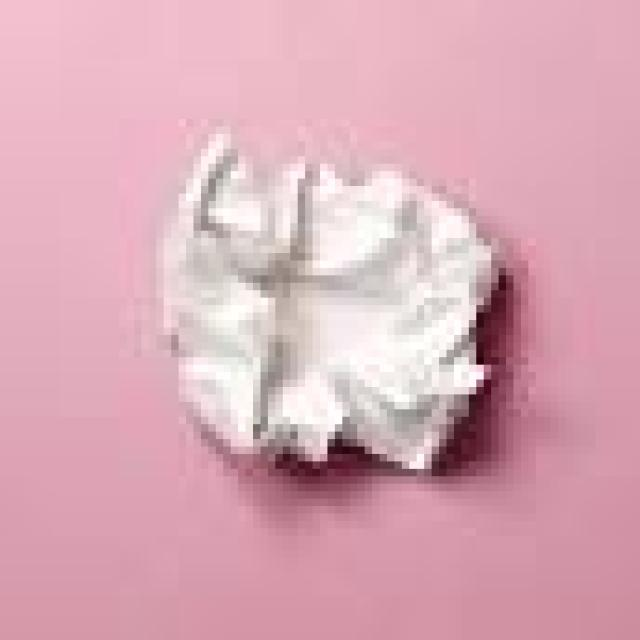PaperCardboard: (155, 129, 496, 475)
